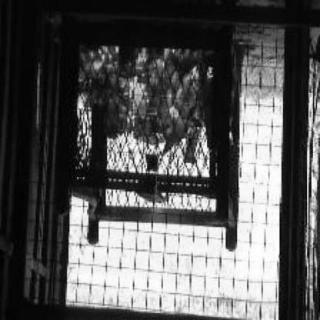Fire: (80, 42, 212, 160)
